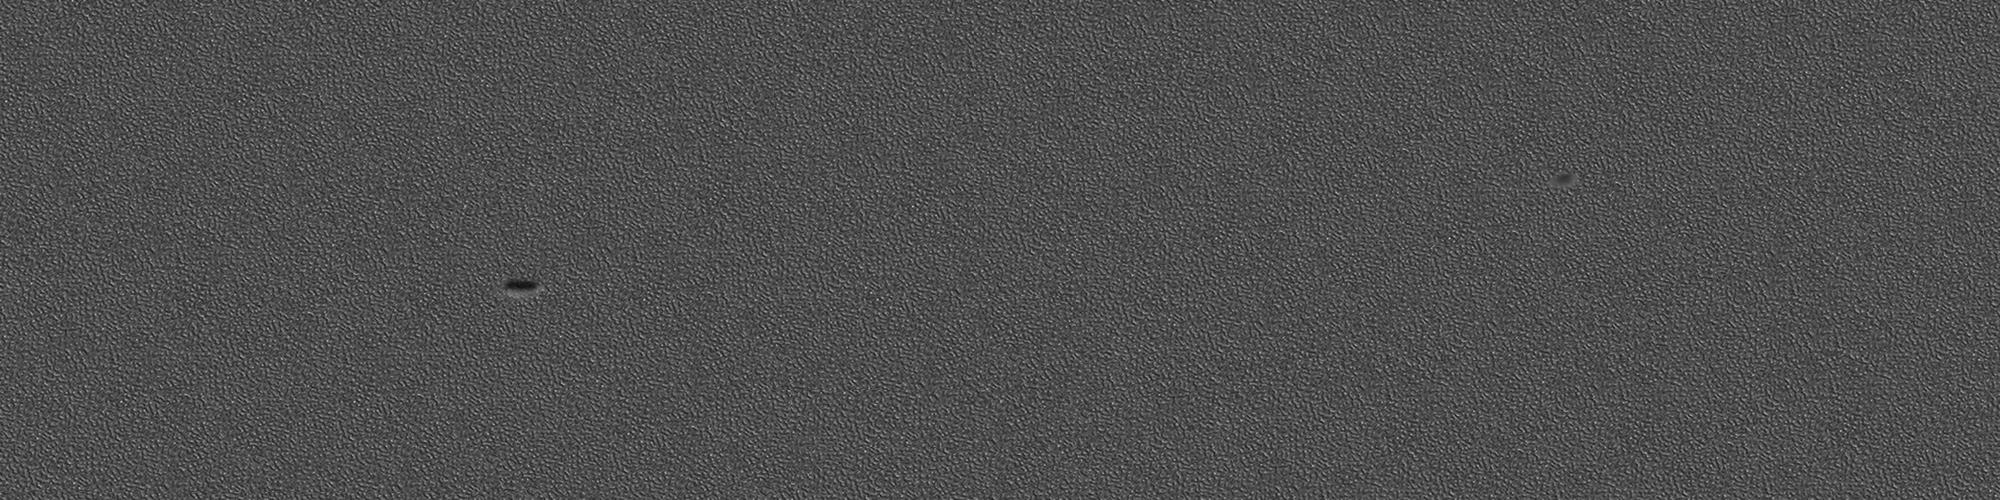Decomposed: (501, 272, 550, 304), (1542, 170, 1583, 194)
